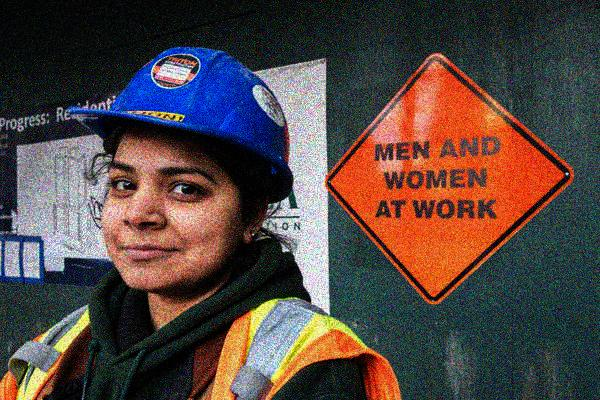helmet: (67, 45, 295, 292)
